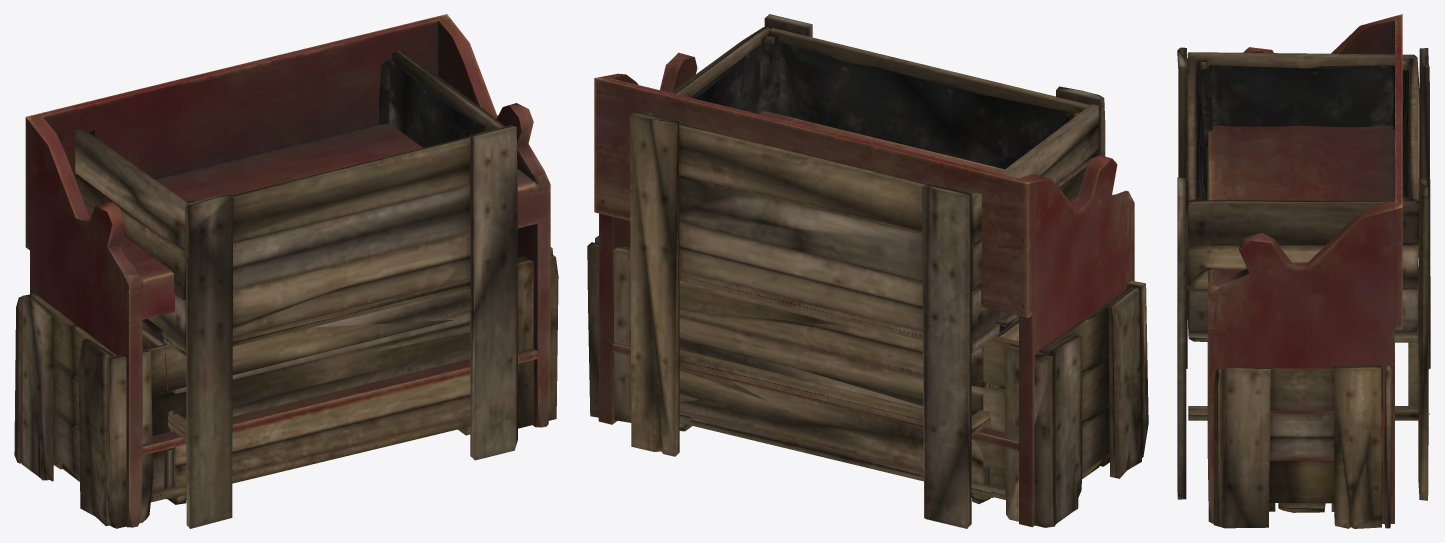
The model's file is arena-estate-props-v1.glb.
The picture shows the model from 3 angles, left to right: view 1: azimuth 30°, elevation 25°; view 2: azimuth 150°, elevation 25°; view 3: azimuth 270°, elevation 25°; orthographic projection. The views are drawn at different scales.
Parts seen in each view (by area): view 1: planter_box_03, painted_wooden_bench, planter_box_02, planter_box_01; view 2: planter_box_03, painted_wooden_bench, planter_box_02, planter_box_01; view 3: painted_wooden_bench, planter_box_03, planter_box_02.
Part boxes in pixels (x1=…): planter_box_03: x1=74, y1=49, x2=517, y2=528; painted_wooden_bench: x1=25, y1=14, x2=550, y2=527; planter_box_02: x1=14, y1=247, x2=558, y2=528; planter_box_01: x1=142, y1=289, x2=470, y2=504; planter_box_03: x1=629, y1=14, x2=1105, y2=528; painted_wooden_bench: x1=594, y1=52, x2=1134, y2=527; planter_box_02: x1=587, y1=236, x2=1148, y2=527; planter_box_01: x1=679, y1=280, x2=1018, y2=503; painted_wooden_bench: x1=1207, y1=14, x2=1402, y2=523; planter_box_03: x1=1177, y1=47, x2=1430, y2=500; planter_box_02: x1=1213, y1=365, x2=1393, y2=528.
Size of the model in its own units: 1.25 by 0.8893 by 0.6456.
7 materials, 7 textured.
